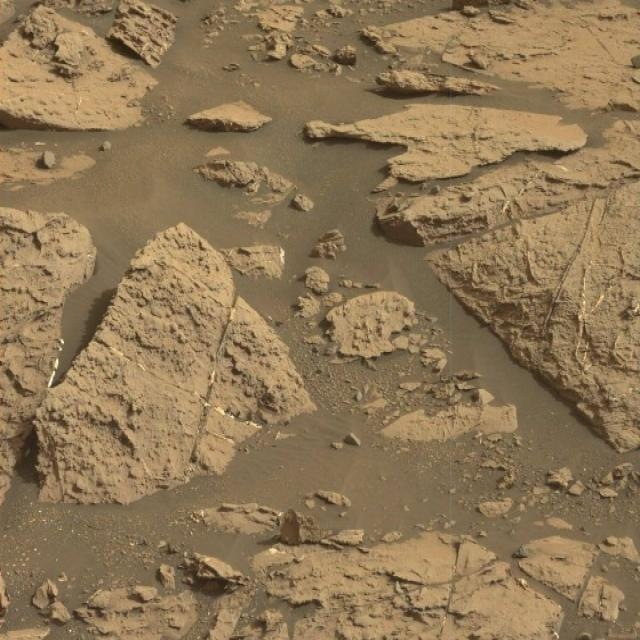rock: (328, 289, 420, 356), (181, 100, 270, 130), (277, 511, 319, 548)
